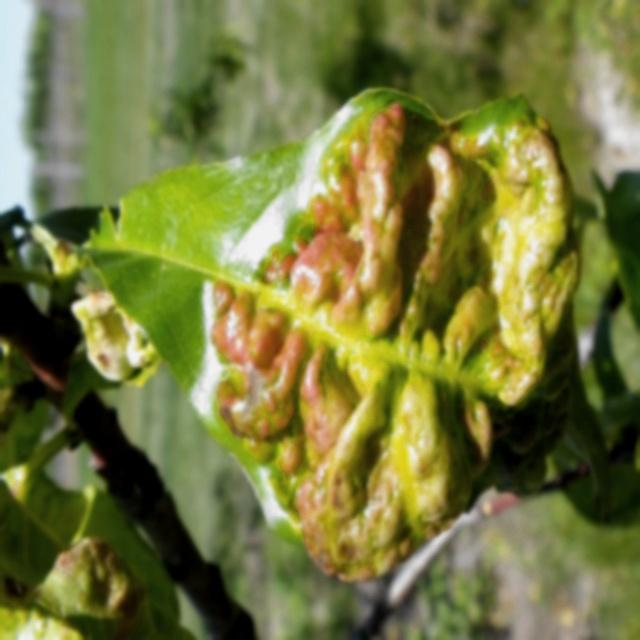leaf_curl: (138, 57, 615, 600)
